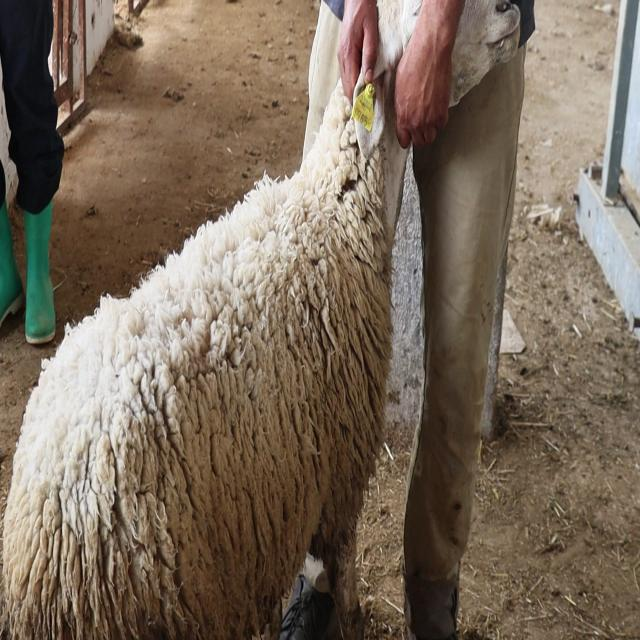Score_4: (0, 0, 420, 639)
